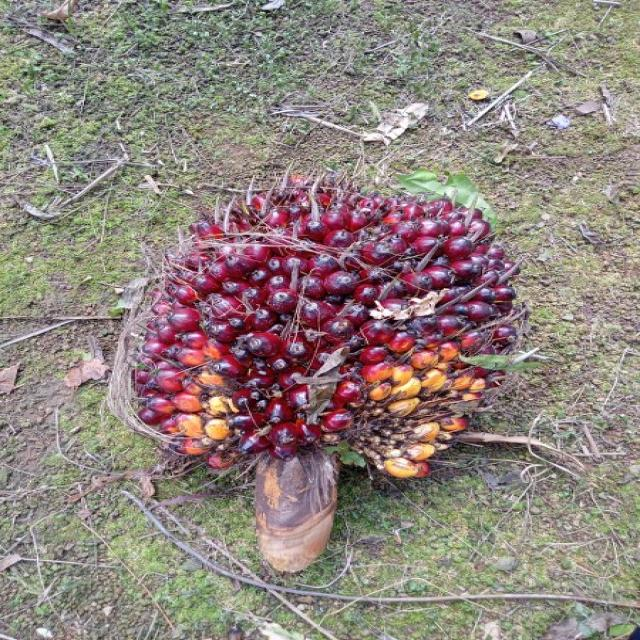fraksi 1: (120, 112, 532, 578)
